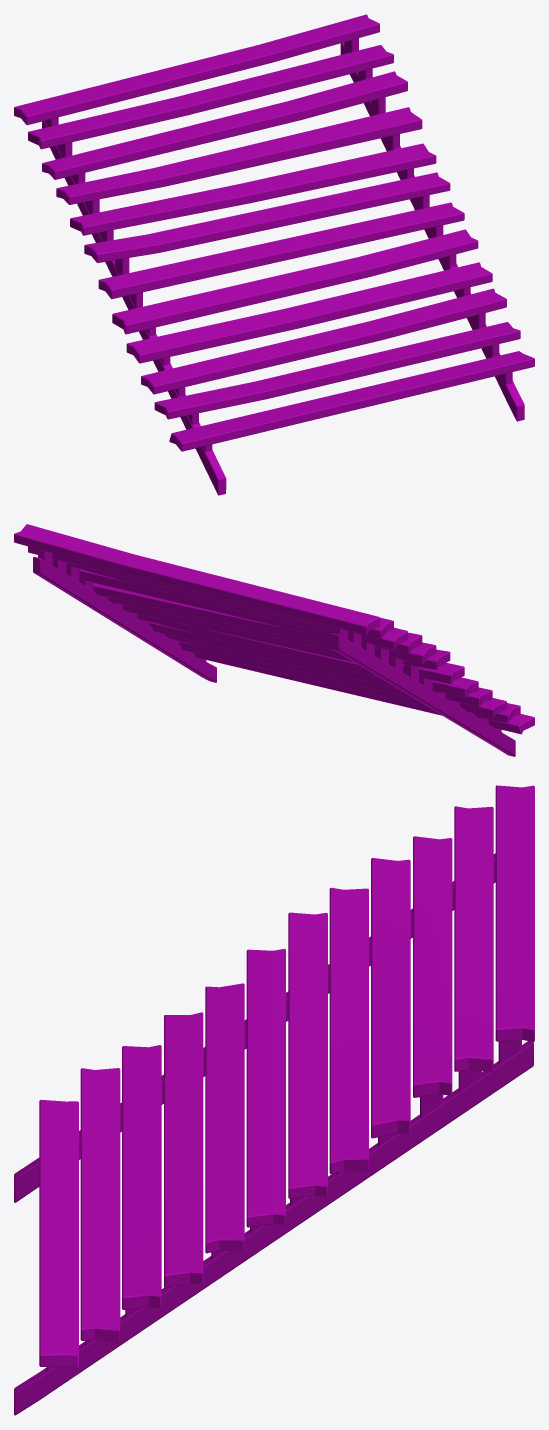
The model's file is Stairs_Wood.fbx.
3 views of the same model, one above another, from view 1: azimuth 30°, elevation 25°; view 2: azimuth 150°, elevation 25°; view 3: azimuth 270°, elevation 25° (orthographic). The views are drawn at different scales.
Visible parts, largest first — view 1: Stairs_wood; view 2: Stairs_wood; view 3: Stairs_wood.
Boxes of the visible parts, left/top/right/bottom form: Stairs_wood: left=14, top=14, right=534, bottom=495; Stairs_wood: left=14, top=524, right=534, bottom=756; Stairs_wood: left=14, top=785, right=534, bottom=1415.
Size of the model in its own units: 7.69 by 5.68 by 6.66.
